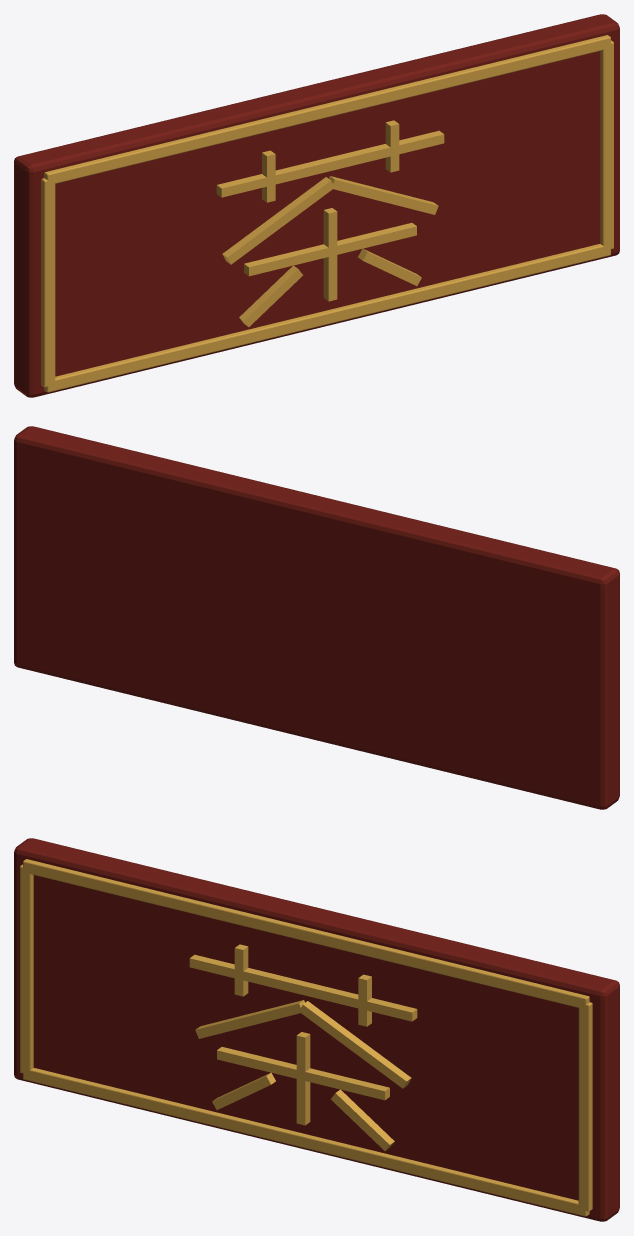
3 views of the same model, one above another, from view 1: azimuth 30°, elevation 25°; view 2: azimuth 150°, elevation 25°; view 3: azimuth 330°, elevation 25° (orthographic).
Parts seen in each view (by area): view 1: SIGN_Board, SIGN_Border.001, SIGN_Border, GLYPH_Tea, SIGN_Border.002, SIGN_Border.003, GLYPH_Tea.005, GLYPH_Tea.003, GLYPH_Tea.004, GLYPH_Tea.006, GLYPH_Tea.007, GLYPH_Tea.008 (+2 smaller); view 2: SIGN_Board; view 3: SIGN_Board, SIGN_Border.001, SIGN_Border, GLYPH_Tea, SIGN_Border.003, SIGN_Border.002, GLYPH_Tea.005, GLYPH_Tea.004, GLYPH_Tea.003, GLYPH_Tea.006, GLYPH_Tea.008, GLYPH_Tea.007 (+2 smaller).
Part boxes in pixels (x1,y1,x2,y2): SIGN_Board: (14,14,619,397); SIGN_Border.001: (44,35,610,184); SIGN_Border: (44,244,610,392); GLYPH_Tea: (216,130,444,197); SIGN_Border.002: (41,178,55,387); SIGN_Border.003: (600,40,613,249); GLYPH_Tea.005: (244,223,416,276); GLYPH_Tea.003: (222,177,332,264); GLYPH_Tea.004: (329,176,438,214); GLYPH_Tea.006: (323,208,337,301); GLYPH_Tea.007: (239,265,303,326); GLYPH_Tea.008: (358,248,421,285); SIGN_Board: (14,426,619,809); SIGN_Board: (14,838,619,1221); SIGN_Border.001: (23,859,589,1008); SIGN_Border: (23,1068,589,1216); GLYPH_Tea: (189,954,417,1021); SIGN_Border.003: (578,1002,592,1211); SIGN_Border.002: (20,864,33,1073); GLYPH_Tea.005: (217,1047,389,1100); GLYPH_Tea.004: (301,1001,411,1088); GLYPH_Tea.003: (195,1000,304,1038); GLYPH_Tea.006: (296,1032,310,1125); GLYPH_Tea.008: (330,1089,394,1150); GLYPH_Tea.007: (212,1072,275,1109).
Bounding box in the file's own units: 2.4 × 0.9 × 0.1725.
